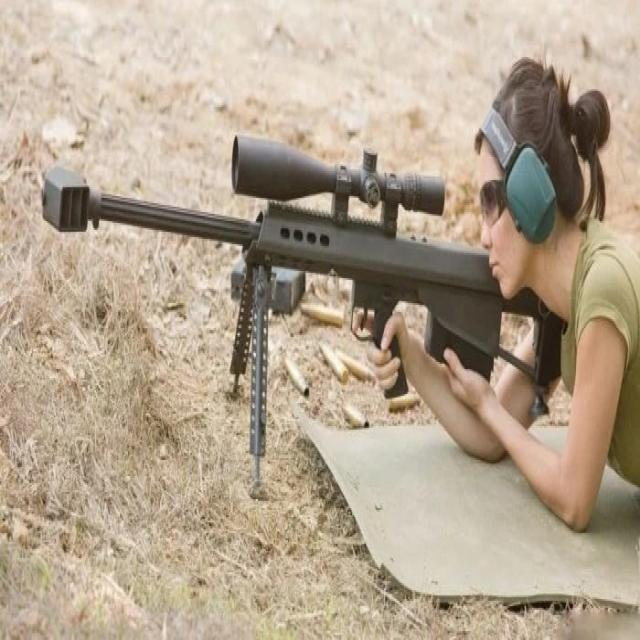Rifle: (43, 135, 568, 405)
